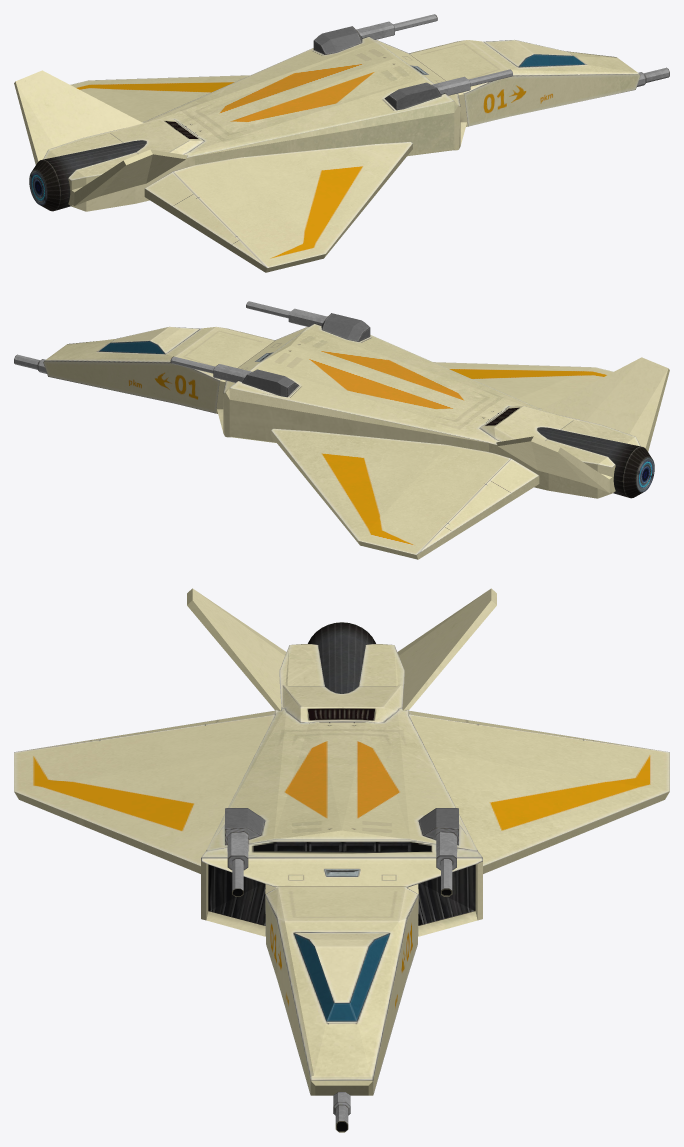
The model's file is SpaceShip-2.fbx.
3 views of the same model, one above another, from view 1: azimuth 30°, elevation 25°; view 2: azimuth 150°, elevation 25°; view 3: azimuth 270°, elevation 25° (orthographic). The views are drawn at different scales.
Parts seen in each view (by area): view 1: Ship-merge; view 2: Ship-merge; view 3: Ship-merge.
Part boxes in pixels (x1,y1,x2,y2): Ship-merge: (14, 14, 669, 272); Ship-merge: (14, 301, 669, 559); Ship-merge: (14, 588, 669, 1132).
Bounding box in the file's own units: 3128 × 512 × 2042.
